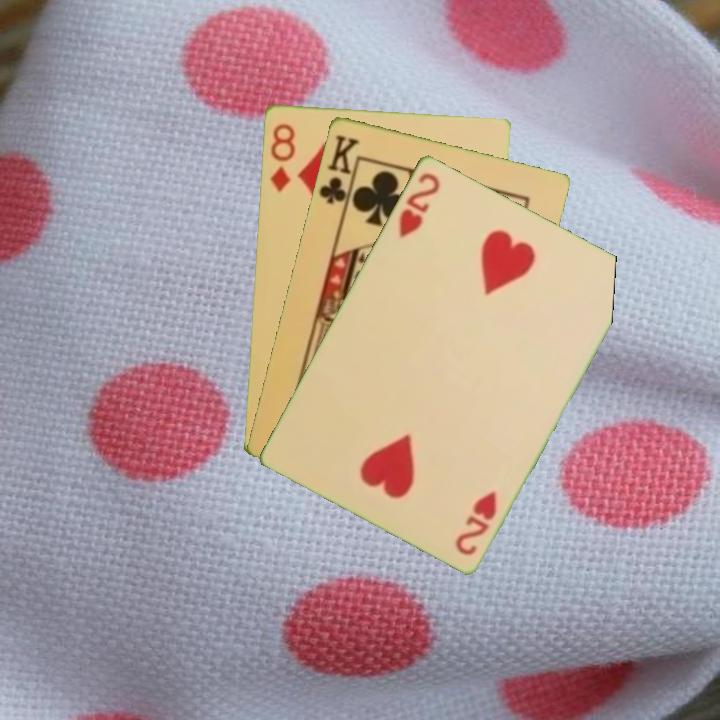2h: (451, 487, 500, 558), (395, 168, 443, 240)
8d: (266, 119, 298, 194)
Kc: (315, 130, 362, 214)
